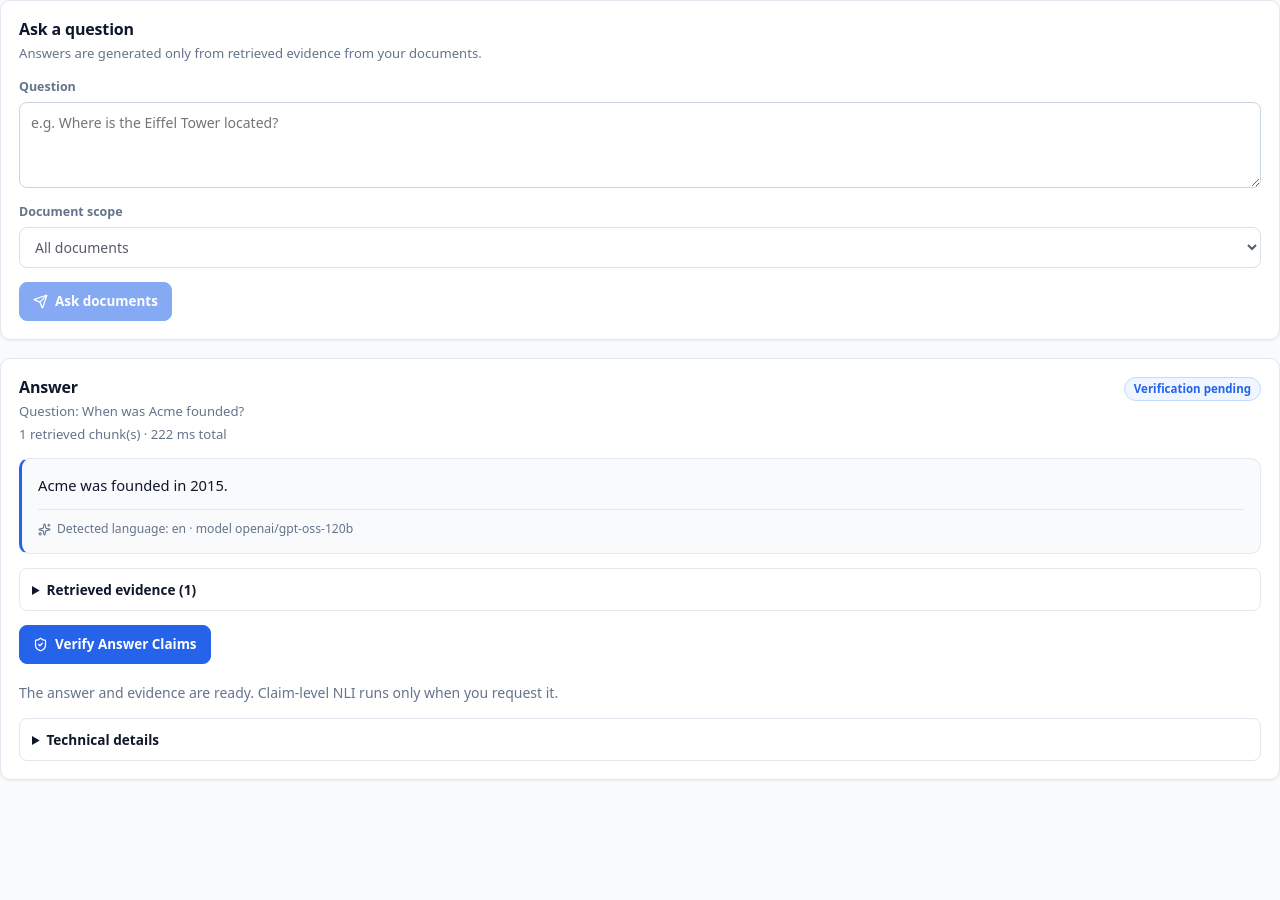
Test: AskPanel shared result rendering › shows a verification error and allows a retry
The image size is (1280, 900).
Click the button "Verify Answer Claims": (115, 645) left=19, top=625, right=210, bottom=664
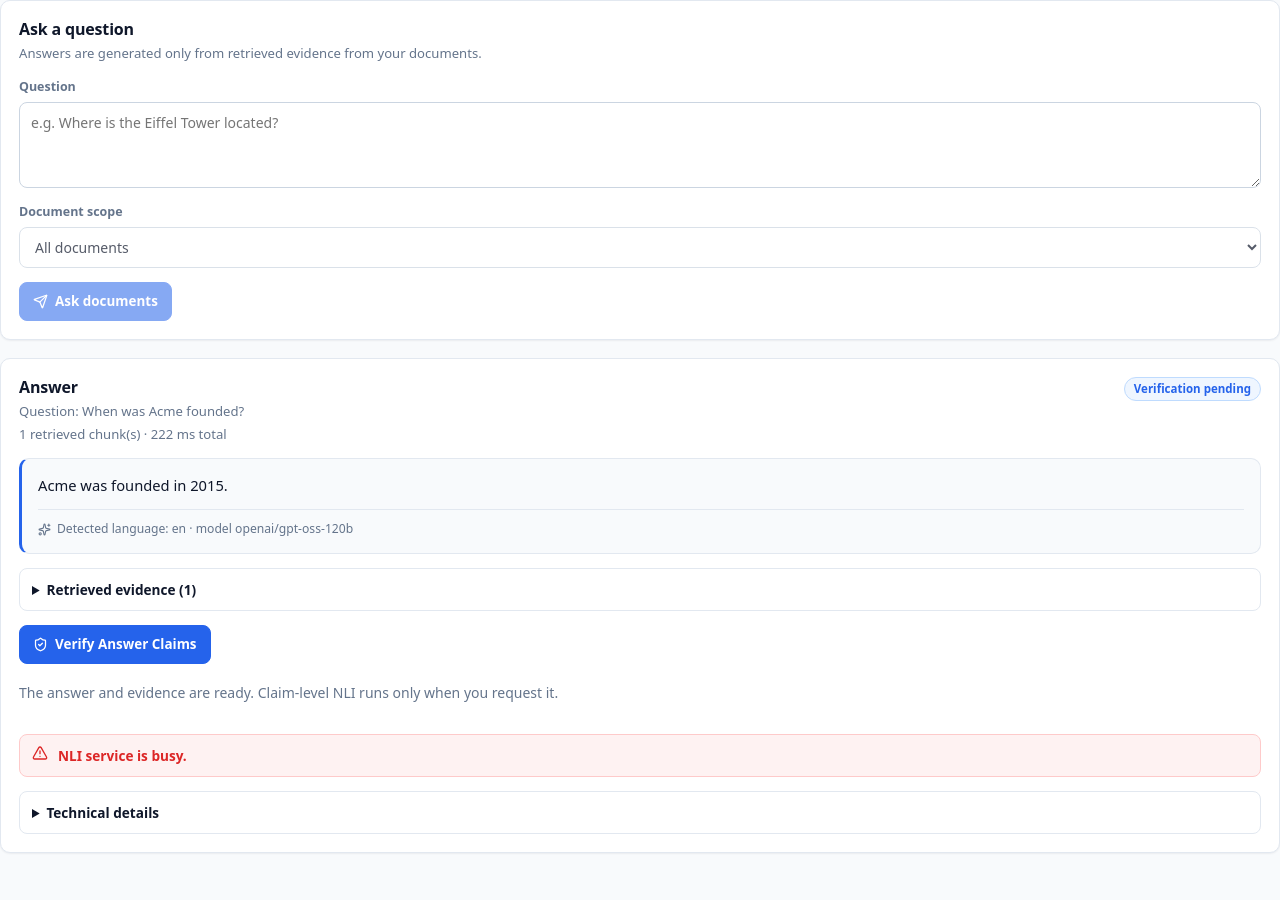
Result: the text "NLI service is busy." is shown at left=58, top=745, right=187, bottom=766
